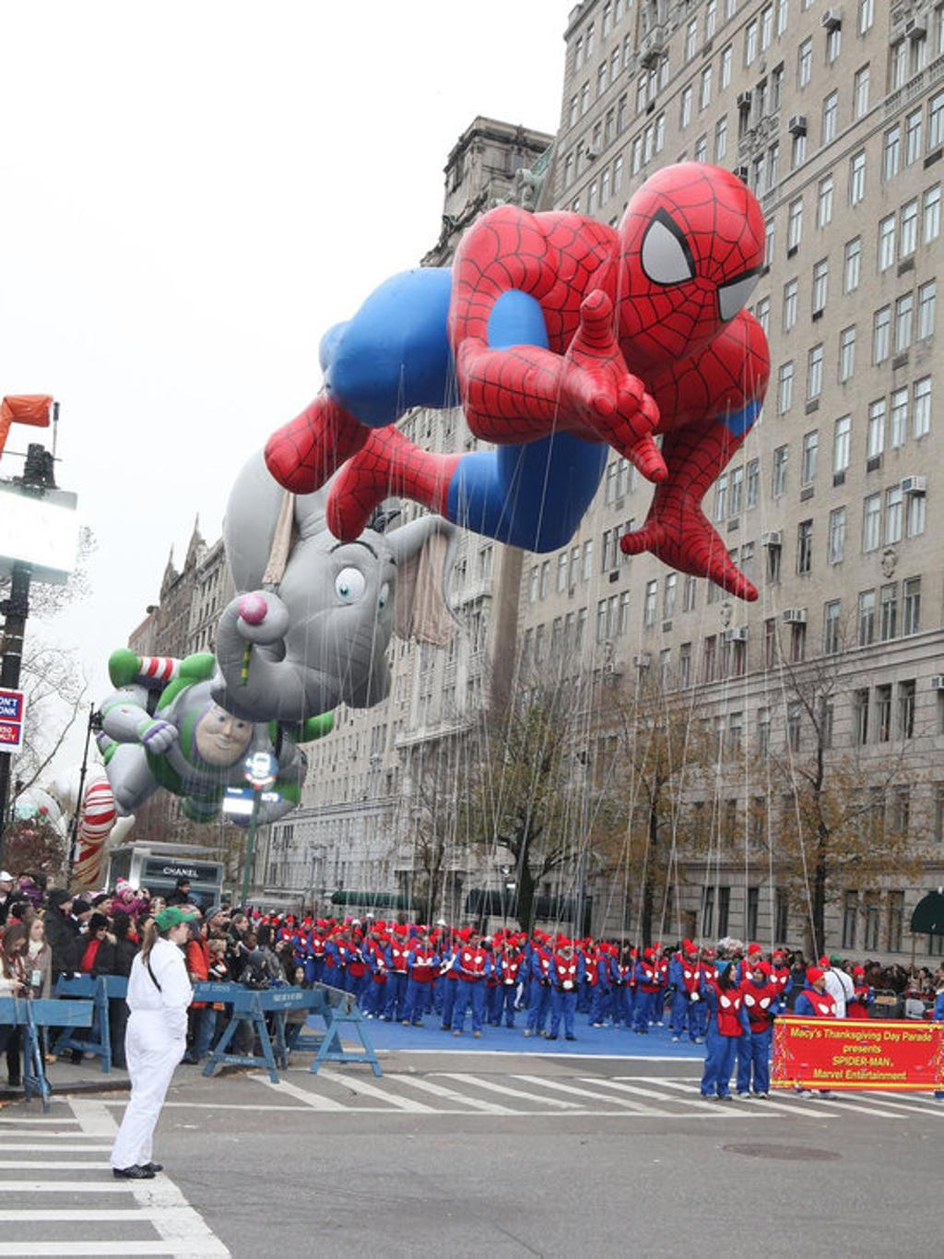human_face: (170, 919, 188, 944), (30, 920, 44, 942), (10, 935, 25, 954), (59, 898, 71, 917), (18, 872, 33, 886), (212, 909, 224, 926), (728, 962, 738, 982), (145, 917, 156, 935), (95, 925, 108, 940), (198, 918, 207, 939), (22, 908, 35, 922), (239, 917, 250, 932), (295, 965, 304, 981), (126, 920, 136, 934), (123, 888, 134, 900), (3, 879, 13, 892), (753, 968, 762, 982), (80, 908, 90, 920), (101, 899, 111, 911), (155, 903, 165, 915), (265, 928, 273, 943), (469, 933, 478, 945), (216, 941, 223, 955), (249, 935, 256, 948), (182, 882, 191, 892), (753, 947, 761, 958), (816, 978, 825, 987), (493, 944, 501, 954), (774, 956, 782, 965), (288, 947, 295, 957), (622, 943, 628, 954), (341, 929, 348, 938), (417, 929, 424, 938), (649, 951, 656, 960), (818, 963, 825, 972), (872, 966, 879, 975), (257, 957, 263, 967), (843, 958, 850, 966), (564, 944, 570, 953), (919, 968, 925, 977), (519, 934, 524, 944), (318, 926, 325, 933), (378, 938, 385, 945), (305, 921, 311, 929), (352, 934, 358, 942), (396, 932, 402, 940), (657, 946, 663, 954), (706, 954, 712, 962), (507, 940, 512, 949), (795, 962, 800, 971), (423, 939, 429, 946), (586, 938, 592, 945), (796, 951, 802, 958), (535, 933, 540, 941), (938, 969, 943, 977), (353, 923, 359, 929), (333, 932, 338, 939), (373, 930, 378, 937), (690, 952, 695, 959), (287, 920, 292, 926), (845, 966, 851, 971), (858, 975, 864, 980), (781, 948, 786, 954), (548, 937, 551, 945), (864, 960, 869, 964), (926, 978, 930, 983), (272, 921, 275, 925), (605, 947, 608, 951), (886, 969, 889, 973)
